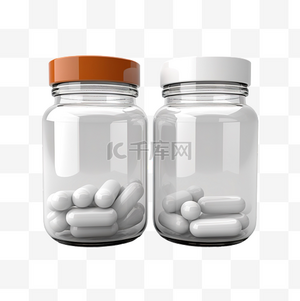medicinejar: (43, 55, 151, 246), (156, 55, 259, 249)
